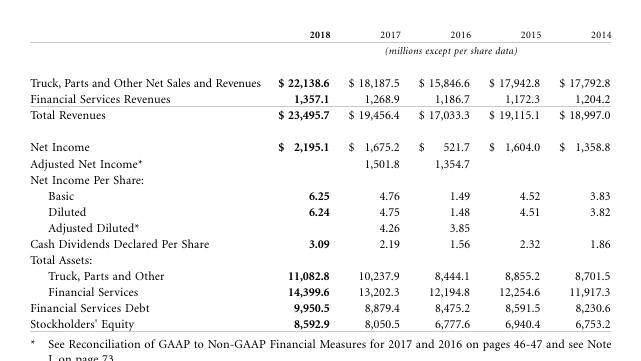table: (29, 28, 610, 330)
table column: (29, 28, 268, 330), (408, 28, 479, 330), (268, 28, 338, 330), (338, 28, 408, 330), (479, 28, 549, 330), (549, 28, 610, 330)
table column header: (29, 28, 610, 65)
table projected row header: (29, 171, 610, 187), (29, 251, 610, 267)
table row: (29, 65, 610, 90), (29, 130, 610, 155), (29, 106, 610, 130), (29, 42, 610, 65), (29, 90, 610, 106), (29, 155, 610, 171), (29, 171, 610, 187), (29, 187, 610, 203), (29, 203, 610, 219), (29, 219, 610, 235), (29, 235, 610, 251), (29, 251, 610, 267), (29, 267, 610, 283), (29, 283, 610, 299), (29, 299, 610, 315), (29, 315, 610, 330), (29, 28, 610, 42)
table spanning cell: (268, 42, 610, 65)
